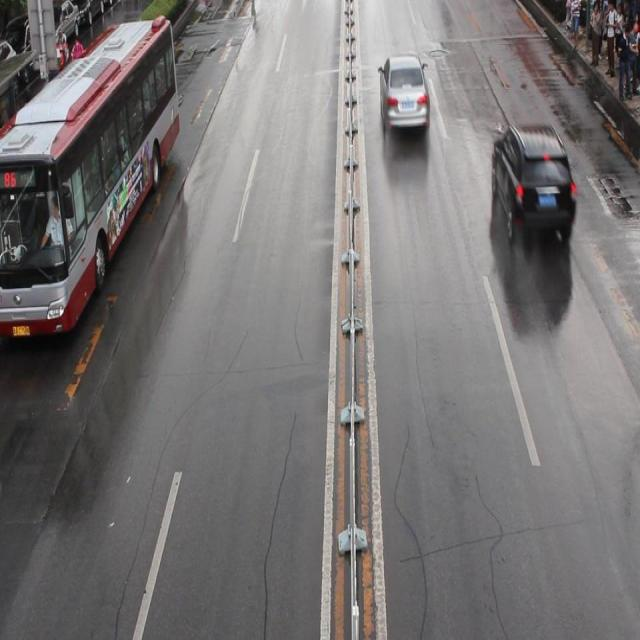car: (490, 126, 577, 236), (378, 56, 428, 132)
van: (1, 16, 179, 340)
